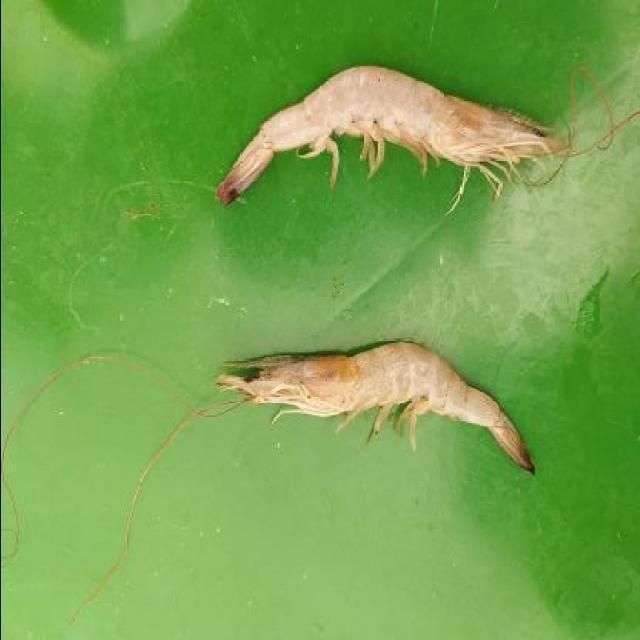shrimp: (207, 60, 592, 215), (201, 332, 546, 488)
